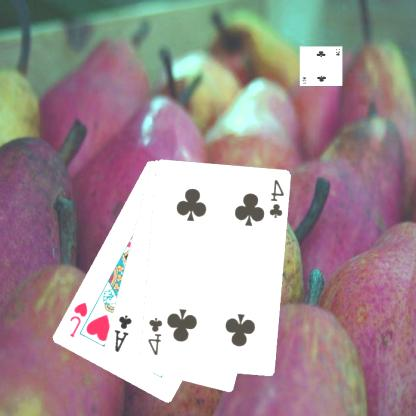4C: (268, 177, 287, 220), (146, 315, 165, 357)
AC: (112, 312, 134, 354)
JH: (68, 299, 90, 339)
